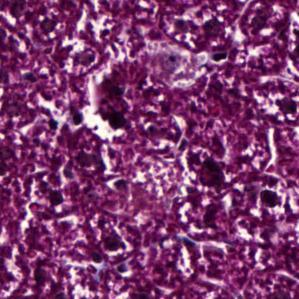inflammation: (71, 103, 128, 144), (178, 143, 230, 186), (261, 91, 299, 129), (252, 181, 287, 219), (102, 225, 131, 258)
